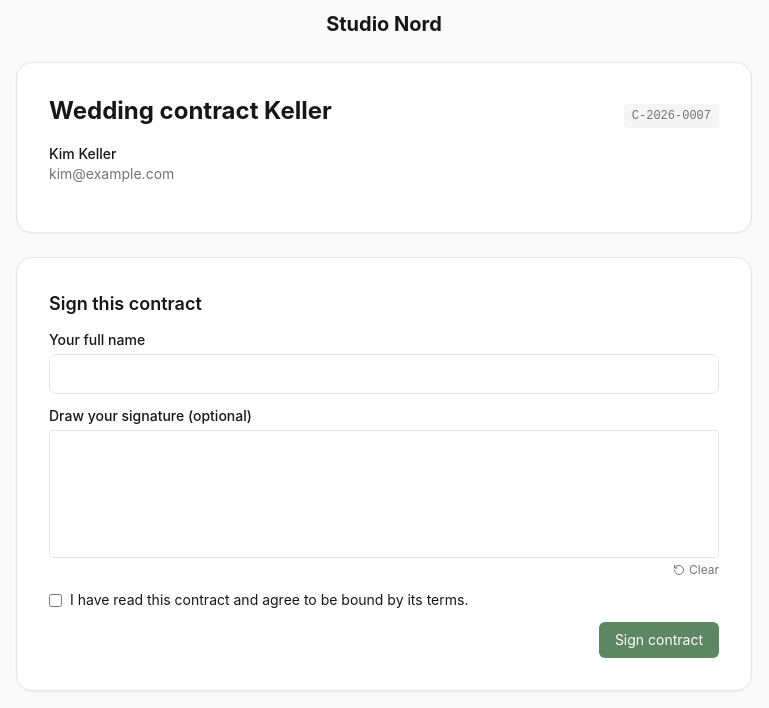
Test: ContractResponsePage verification gate › returns to the verification step and forgets the grant when the server says it is no longer valid
This screenshot has width=769, height=708.
Type "Kim Keller" into the field labelled "Your full name".
click(384, 374); type("Kim Keller")  # box [49,354,719,394]
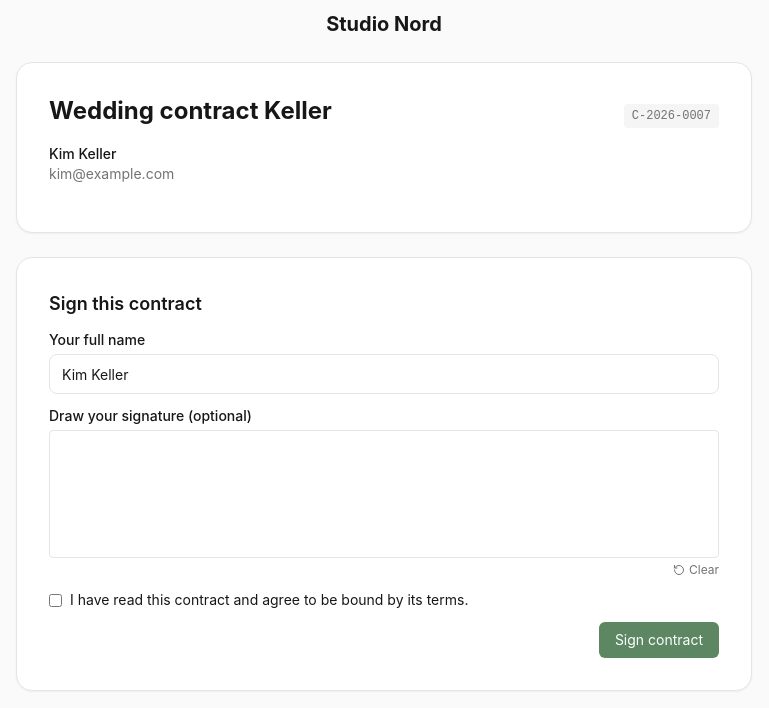
Click the checkbox.
click(56, 600)  # box [49,594,62,607]
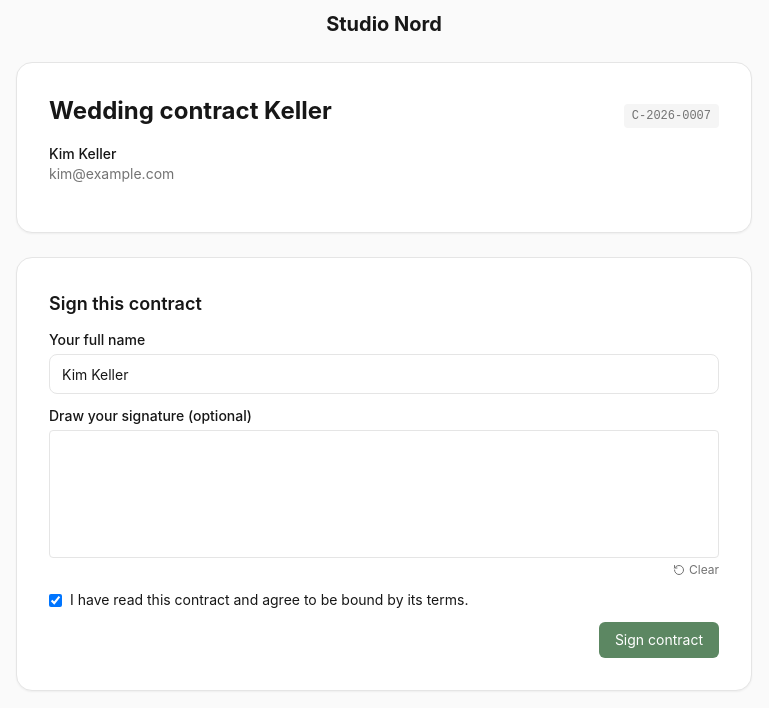
Click the button "Sign contract".
click(659, 640)  # box [599,622,719,658]
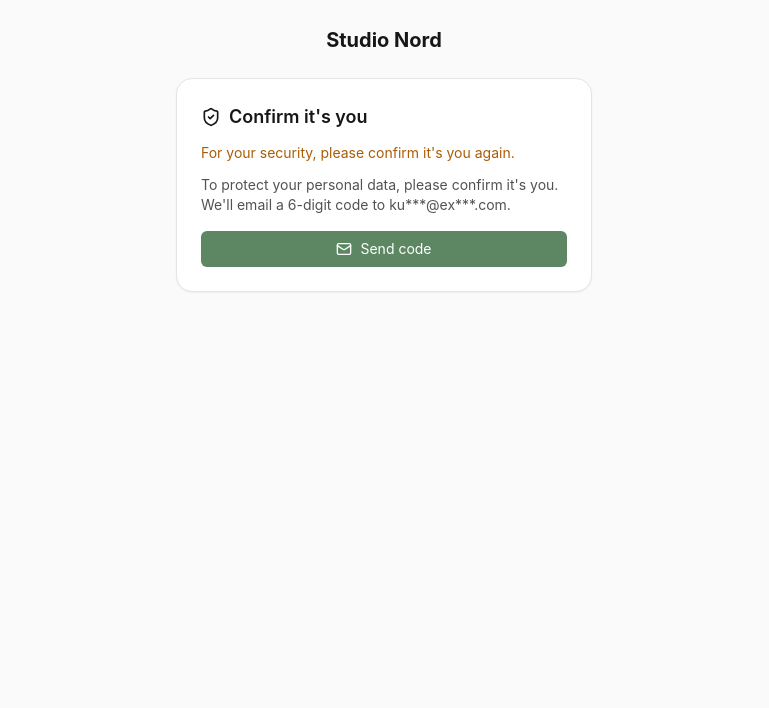
expect the text "For your security, please confirm it's you again." is shown: met, box [201,143,567,163]
expect the text "kim@example.com" is gone: met
